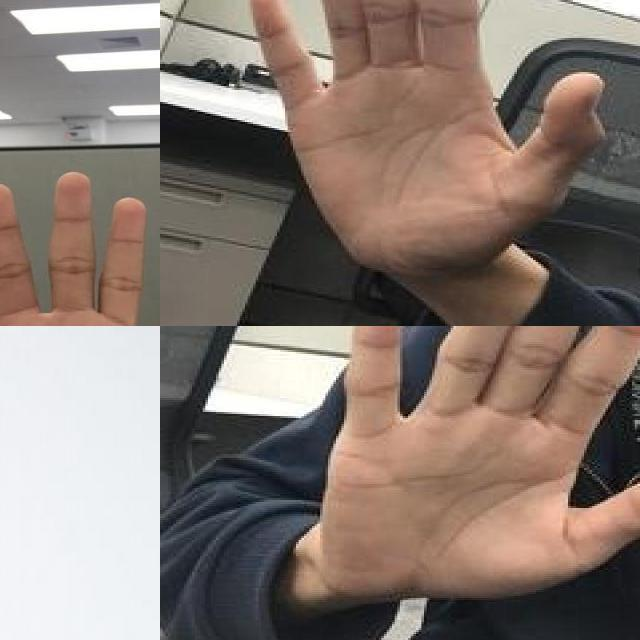hand: (243, 0, 603, 276), (317, 326, 640, 598), (0, 168, 160, 326)
